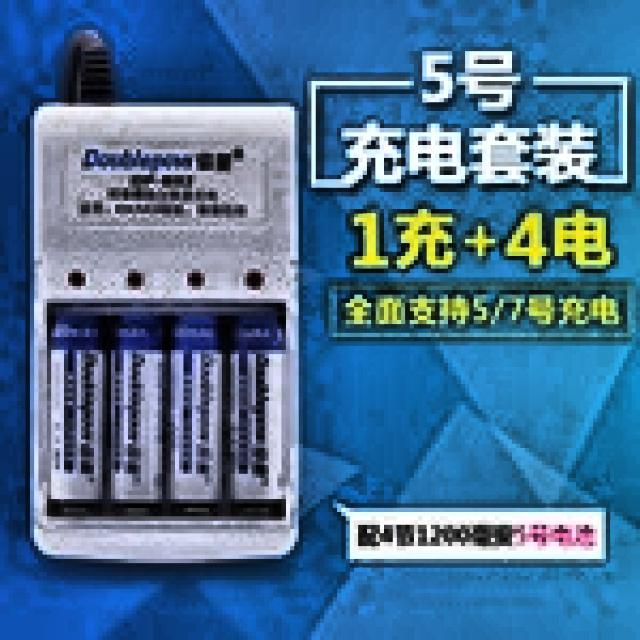Non-Valuable Waste - Batteries: (49, 306, 284, 516)
